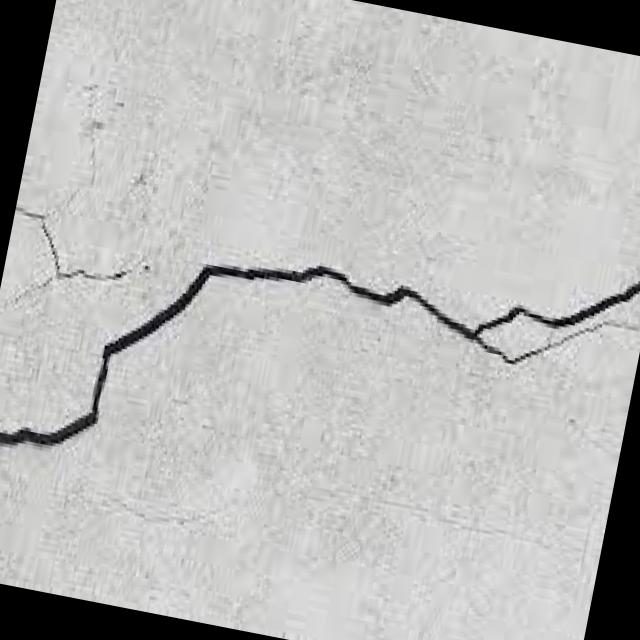crack: (0, 152, 640, 568)
